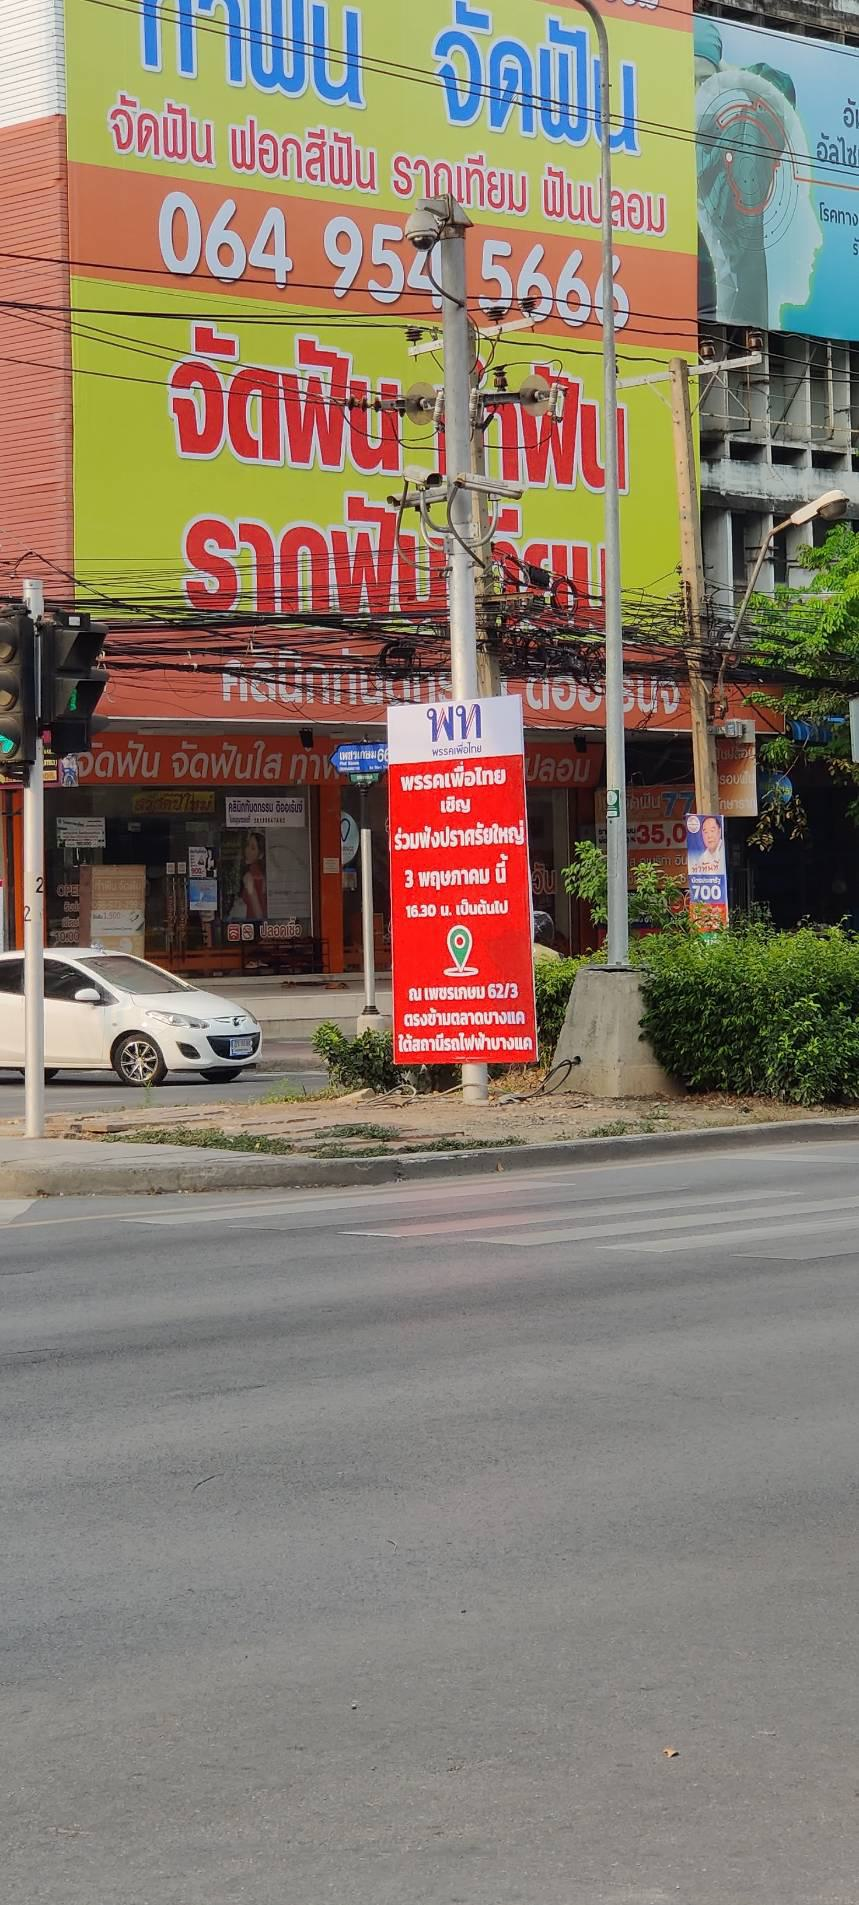Banner: (380, 693, 538, 1065)
